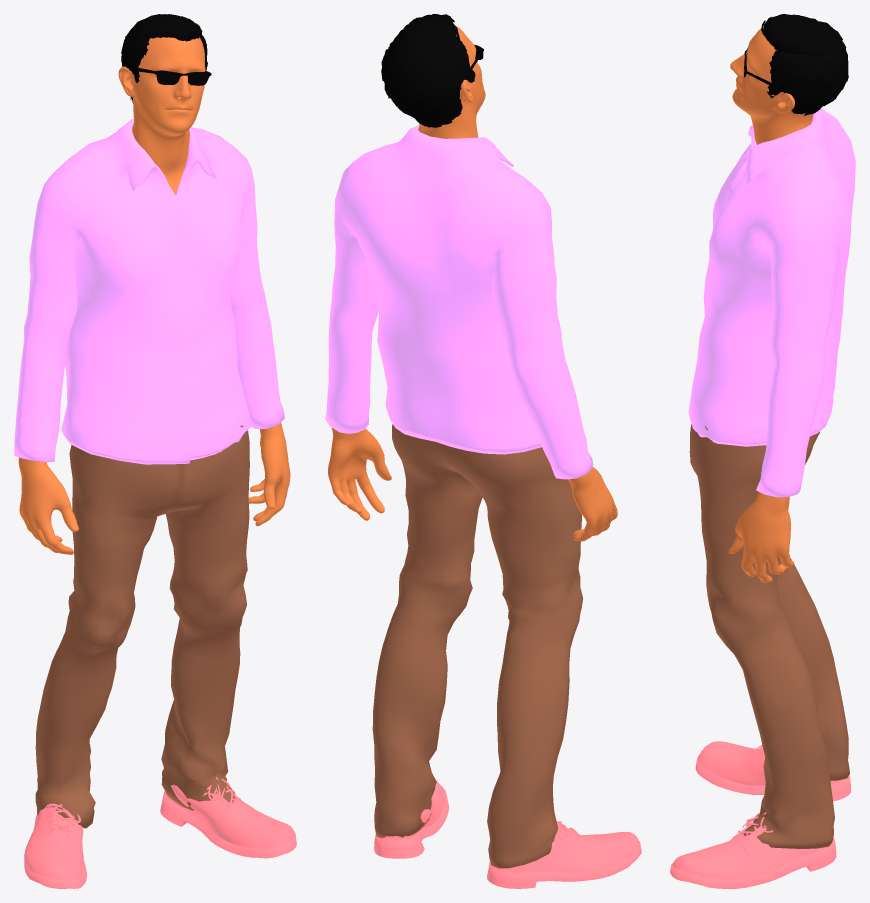
File: Man_10_Standing-transformed.glb
3 views of the same model, side by side, from view 1: azimuth 30°, elevation 25°; view 2: azimuth 150°, elevation 25°; view 3: azimuth 270°, elevation 25° (orthographic). The views are drawn at different scales.
Parts seen in each view (by area): view 1: Tops.001, Bottoms.001, Body.001, Shoes.001, Hair.001, Eyewear.001; view 2: Tops.001, Bottoms.001, Body.001, Hair.001, Shoes.001; view 3: Tops.001, Bottoms.001, Shoes.001, Body.001, Hair.001.
Boxes of the visible parts, left/top/right/bottom form: Tops.001: left=14, top=119, right=284, bottom=464; Bottoms.001: left=35, top=425, right=249, bottom=828; Body.001: left=18, top=37, right=290, bottom=554; Shoes.001: left=24, top=777, right=296, bottom=888; Hair.001: left=121, top=14, right=207, bottom=103; Eyewear.001: left=136, top=67, right=211, bottom=85; Tops.001: left=325, top=125, right=593, bottom=479; Bottoms.001: left=372, top=424, right=583, bottom=868; Body.001: left=328, top=25, right=617, bottom=541; Hair.001: left=381, top=14, right=475, bottom=127; Shoes.001: left=374, top=780, right=641, bottom=888; Tops.001: left=688, top=108, right=855, bottom=497; Bottoms.001: left=689, top=424, right=849, bottom=848; Shoes.001: left=670, top=741, right=850, bottom=888; Body.001: left=728, top=26, right=813, bottom=583; Hair.001: left=761, top=14, right=848, bottom=115.
Size of the model in its own units: 0.6552 by 1.86 by 0.3753.
